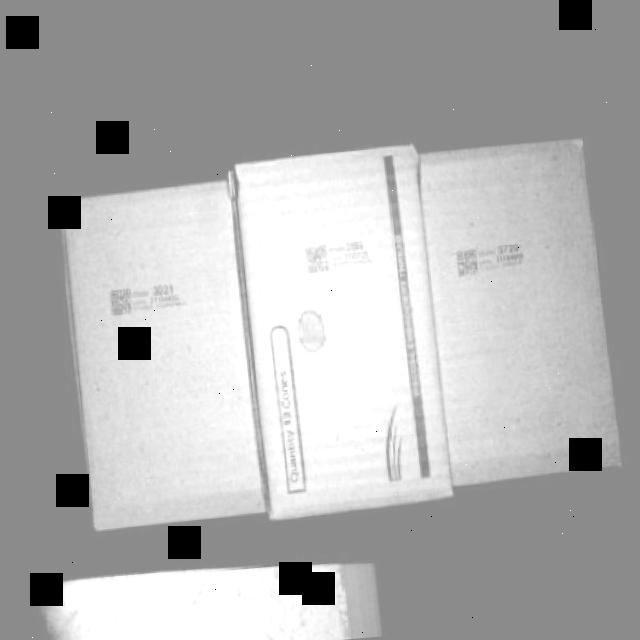box: (235, 143, 458, 518), (57, 172, 266, 534), (423, 138, 620, 480)
